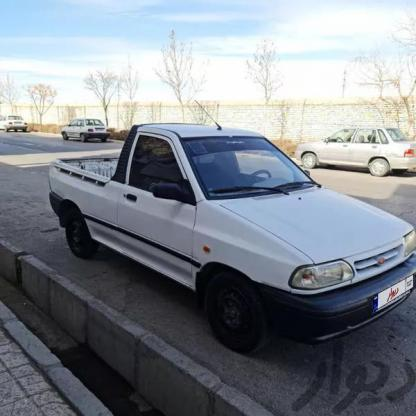Car: (46, 128, 391, 354), (302, 126, 416, 178), (60, 113, 114, 142), (0, 116, 37, 136)
